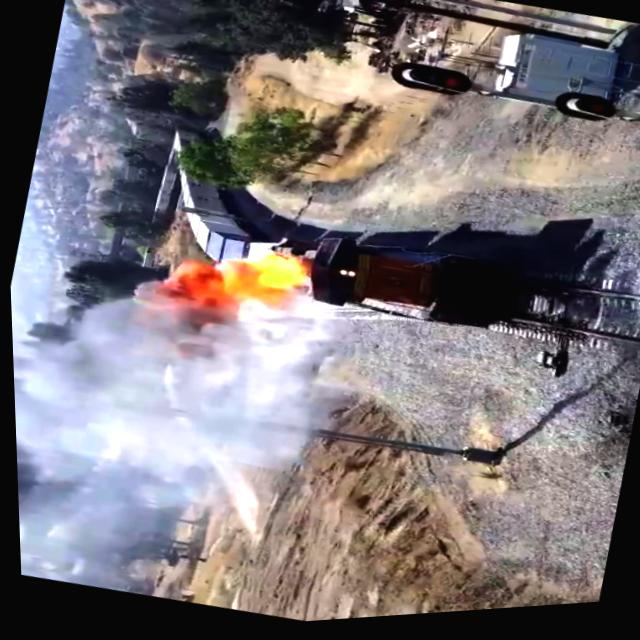fire: (155, 226, 328, 333)
smoke: (8, 248, 292, 490)
